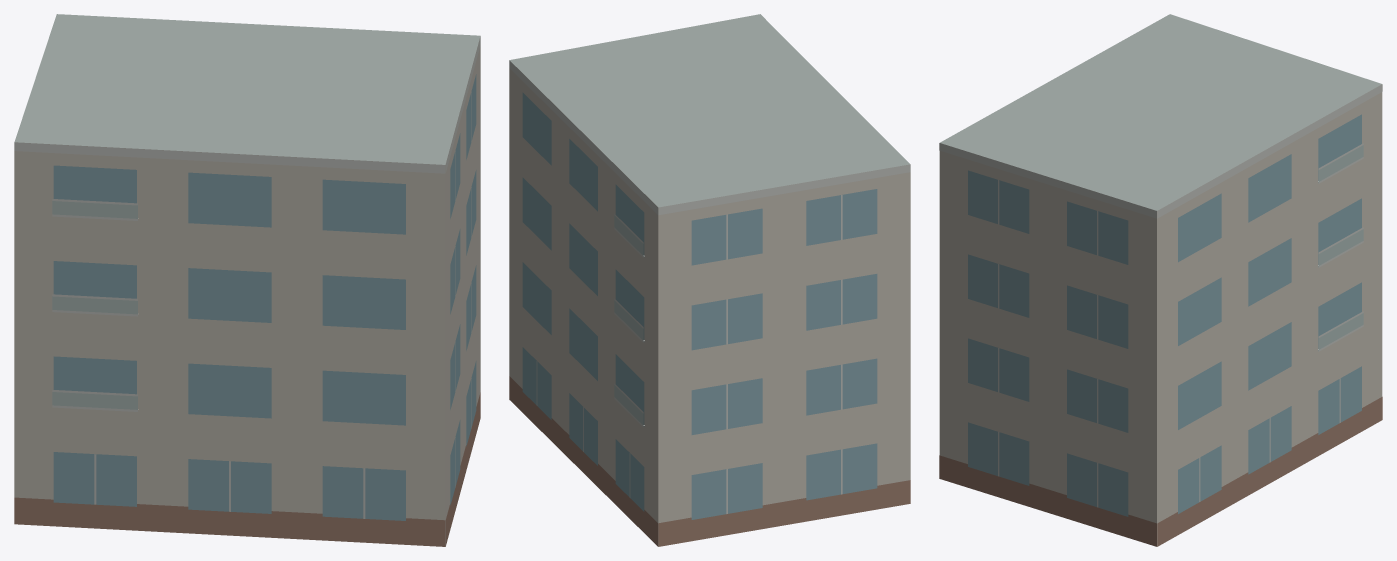
The model's file is survey-upis-32634151.glb.
3 renders of one model, left to right at view 1: azimuth 30°, elevation 25°; view 2: azimuth 150°, elevation 25°; view 3: azimuth 270°, elevation 25°, orthographic. The views are drawn at different scales.
Visible parts, largest first — view 1: survey-upis-32634151.tmp; view 2: survey-upis-32634151.tmp; view 3: survey-upis-32634151.tmp.
Boxes of the visible parts, bbox=[...] form: survey-upis-32634151.tmp: bbox=[14, 14, 480, 546]; survey-upis-32634151.tmp: bbox=[509, 14, 910, 546]; survey-upis-32634151.tmp: bbox=[939, 14, 1382, 546].
Bounding box in the file's own units: 13.34 × 10.6 × 12.68.
